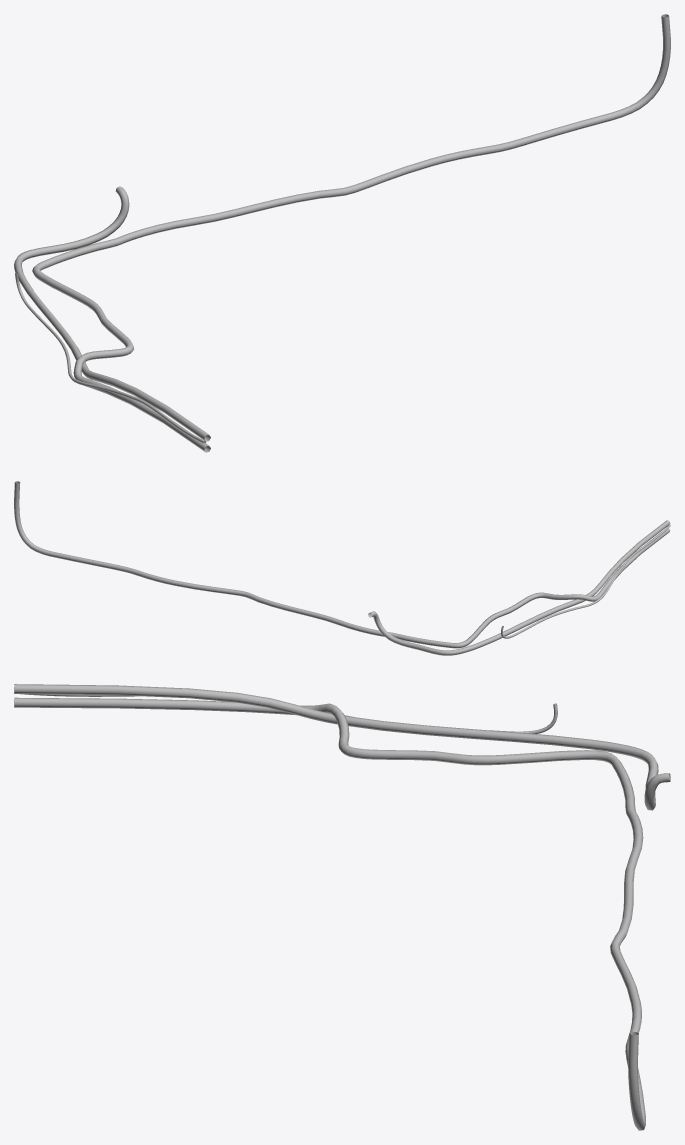
File: SM_Cables_0501.fbx
3 renders of one model, top to bottom at view 1: azimuth 30°, elevation 25°; view 2: azimuth 150°, elevation 25°; view 3: azimuth 270°, elevation 25°, orthographic. The views are drawn at different scales.
Visible parts, largest first — view 1: SM_Cables_05_LOD0; view 2: SM_Cables_05_LOD0; view 3: SM_Cables_05_LOD0.
Boxes of the visible parts, x1,y1,x2,y2 form: SM_Cables_05_LOD0: [14, 14, 670, 452]; SM_Cables_05_LOD0: [14, 481, 670, 655]; SM_Cables_05_LOD0: [14, 684, 670, 1130].
Size of the model in its own units: 639 by 400 by 80.3.
